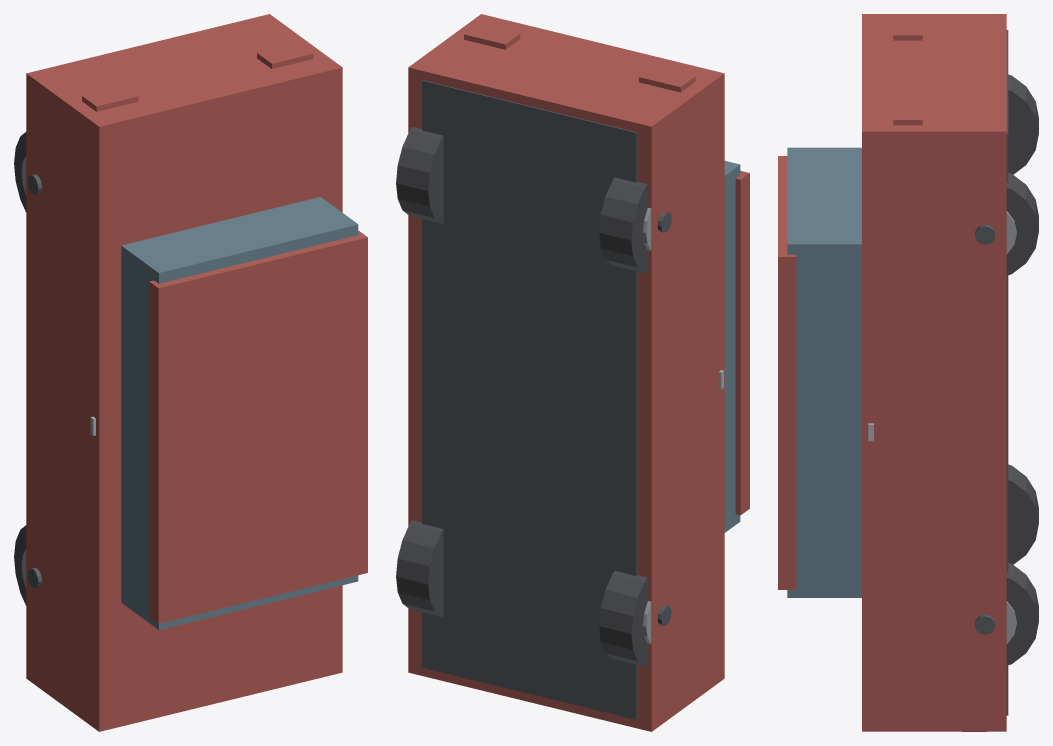
File: sports_coupe.glb
The picture shows the model from 3 angles, left to right: view 1: azimuth 30°, elevation 25°; view 2: azimuth 150°, elevation 25°; view 3: azimuth 270°, elevation 25°; orthographic projection.
Parts seen in each view (by area): view 1: 0000_Car_body, 0003_Roof, 0002_Cabin_glass, 0007_Tail_lamp, 0009_Tail_lamp, 0012_Wheel_tire, 0018_Wheel_tire; view 2: 0001_Chassis_black, 0000_Car_body, 0003_Roof, 0002_Cabin_glass, 0021_Wheel_tire, 0015_Wheel_tire, 0012_Wheel_tire, 0018_Wheel_tire, 0007_Tail_lamp, 0009_Tail_lamp; view 3: 0000_Car_body, 0002_Cabin_glass, 0003_Roof, 0012_Wheel_tire, 0018_Wheel_tire, 0015_Wheel_tire, 0021_Wheel_tire, 0001_Chassis_black, 0007_Tail_lamp, 0009_Tail_lamp.
Boxes of the visible parts, x1=… form: 0000_Car_body: x1=26, y1=14, x2=342, y2=731; 0003_Roof: x1=149, y1=230, x2=367, y2=623; 0002_Cabin_glass: x1=121, y1=197, x2=358, y2=629; 0007_Tail_lamp: x1=82, y1=85, x2=138, y2=111; 0009_Tail_lamp: x1=257, y1=43, x2=313, y2=68; 0012_Wheel_tire: x1=14, y1=525, x2=26, y2=605; 0018_Wheel_tire: x1=14, y1=132, x2=26, y2=212; 0001_Chassis_black: x1=422, y1=80, x2=636, y2=719; 0000_Car_body: x1=408, y1=14, x2=724, y2=731; 0003_Roof: x1=735, y1=170, x2=749, y2=515; 0002_Cabin_glass: x1=724, y1=161, x2=740, y2=532; 0021_Wheel_tire: x1=396, y1=127, x2=443, y2=223; 0015_Wheel_tire: x1=396, y1=520, x2=443, y2=616; 0012_Wheel_tire: x1=599, y1=571, x2=647, y2=666; 0018_Wheel_tire: x1=599, y1=177, x2=647, y2=273; 0007_Tail_lamp: x1=639, y1=66, x2=695, y2=92; 0009_Tail_lamp: x1=464, y1=23, x2=520, y2=49; 0000_Car_body: x1=862, y1=14, x2=1006, y2=731; 0002_Cabin_glass: x1=787, y1=147, x2=861, y2=597; 0003_Roof: x1=778, y1=156, x2=796, y2=589; 0012_Wheel_tire: x1=1008, y1=464, x2=1038, y2=564; 0018_Wheel_tire: x1=1008, y1=74, x2=1038, y2=174; 0015_Wheel_tire: x1=1006, y1=563, x2=1038, y2=665; 0021_Wheel_tire: x1=1006, y1=173, x2=1038, y2=275; 0001_Chassis_black: x1=1006, y1=30, x2=1008, y2=715; 0007_Tail_lamp: x1=893, y1=15, x2=922, y2=40; 0009_Tail_lamp: x1=893, y1=100, x2=922, y2=125.
Size of the model in its own units: 1.87 by 4.4 by 1.7.
